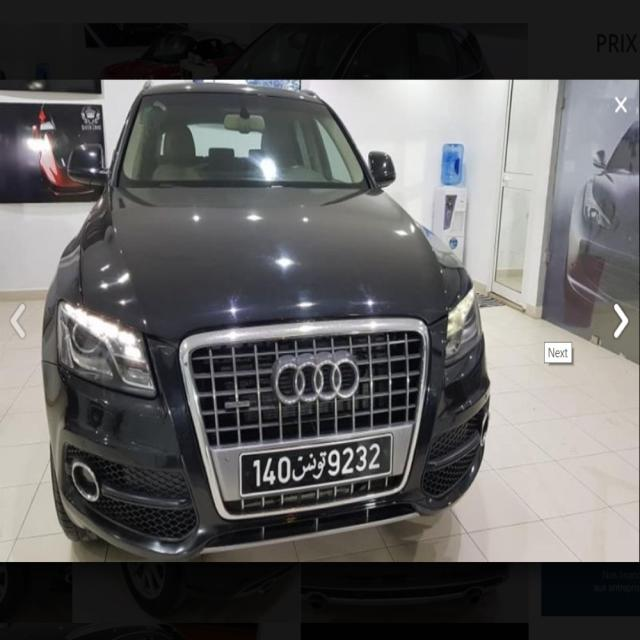LP: (237, 432, 392, 498)
